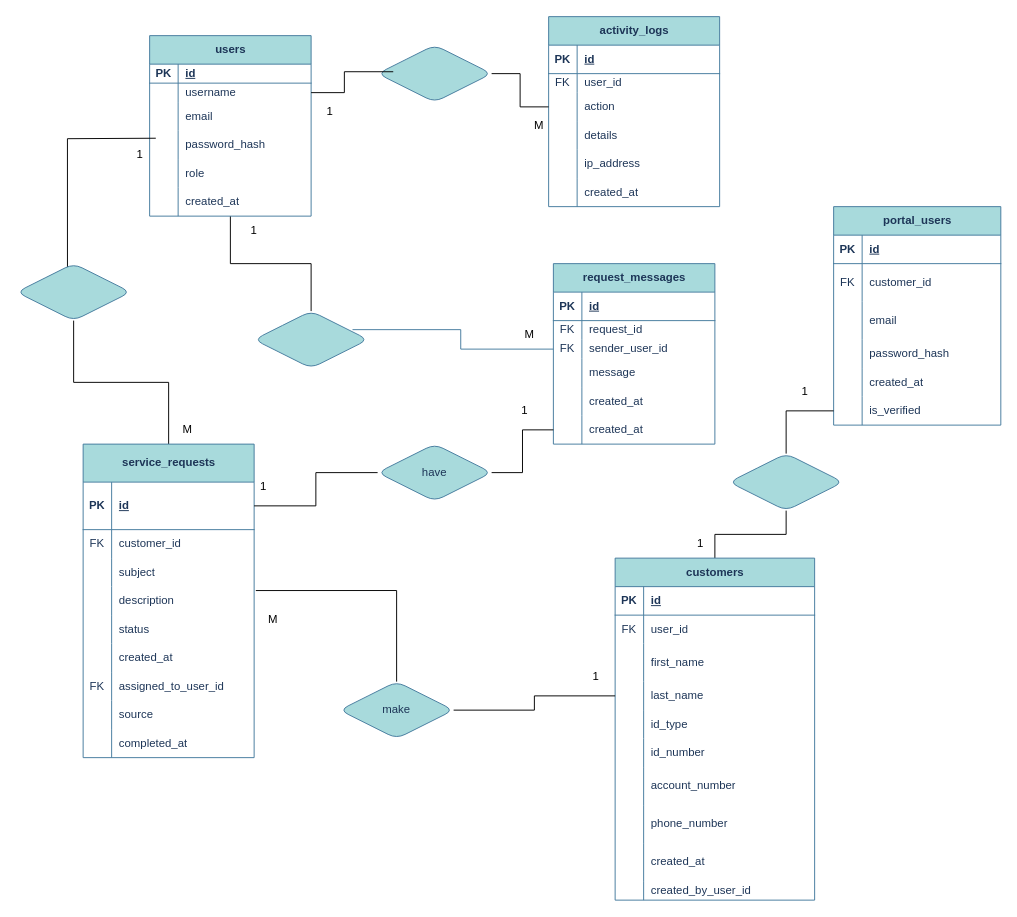
The diagram is 1017 pixels wide and 917 high, and some of its shapes have lost their labels. Each missing label, with the centre of its shape:
are: (x=785, y=482)
is assigned to: (x=73, y=292)
makes: (x=434, y=73)
manages: (x=310, y=339)
